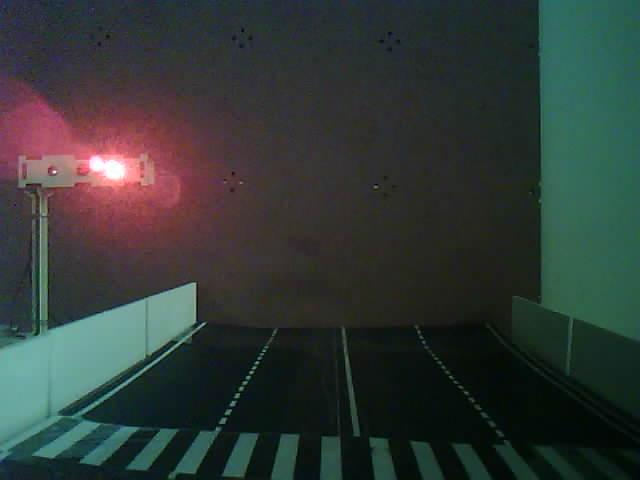crosswalk: (54, 427, 536, 480)
red: (73, 119, 181, 224)
